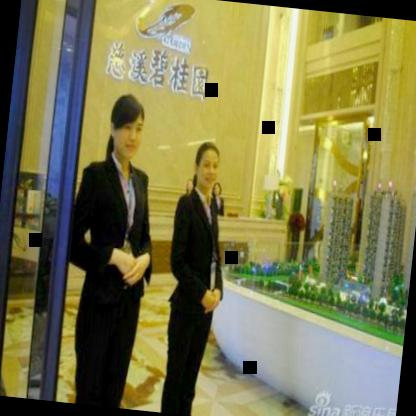head: (103, 87, 151, 164), (190, 138, 225, 196)
